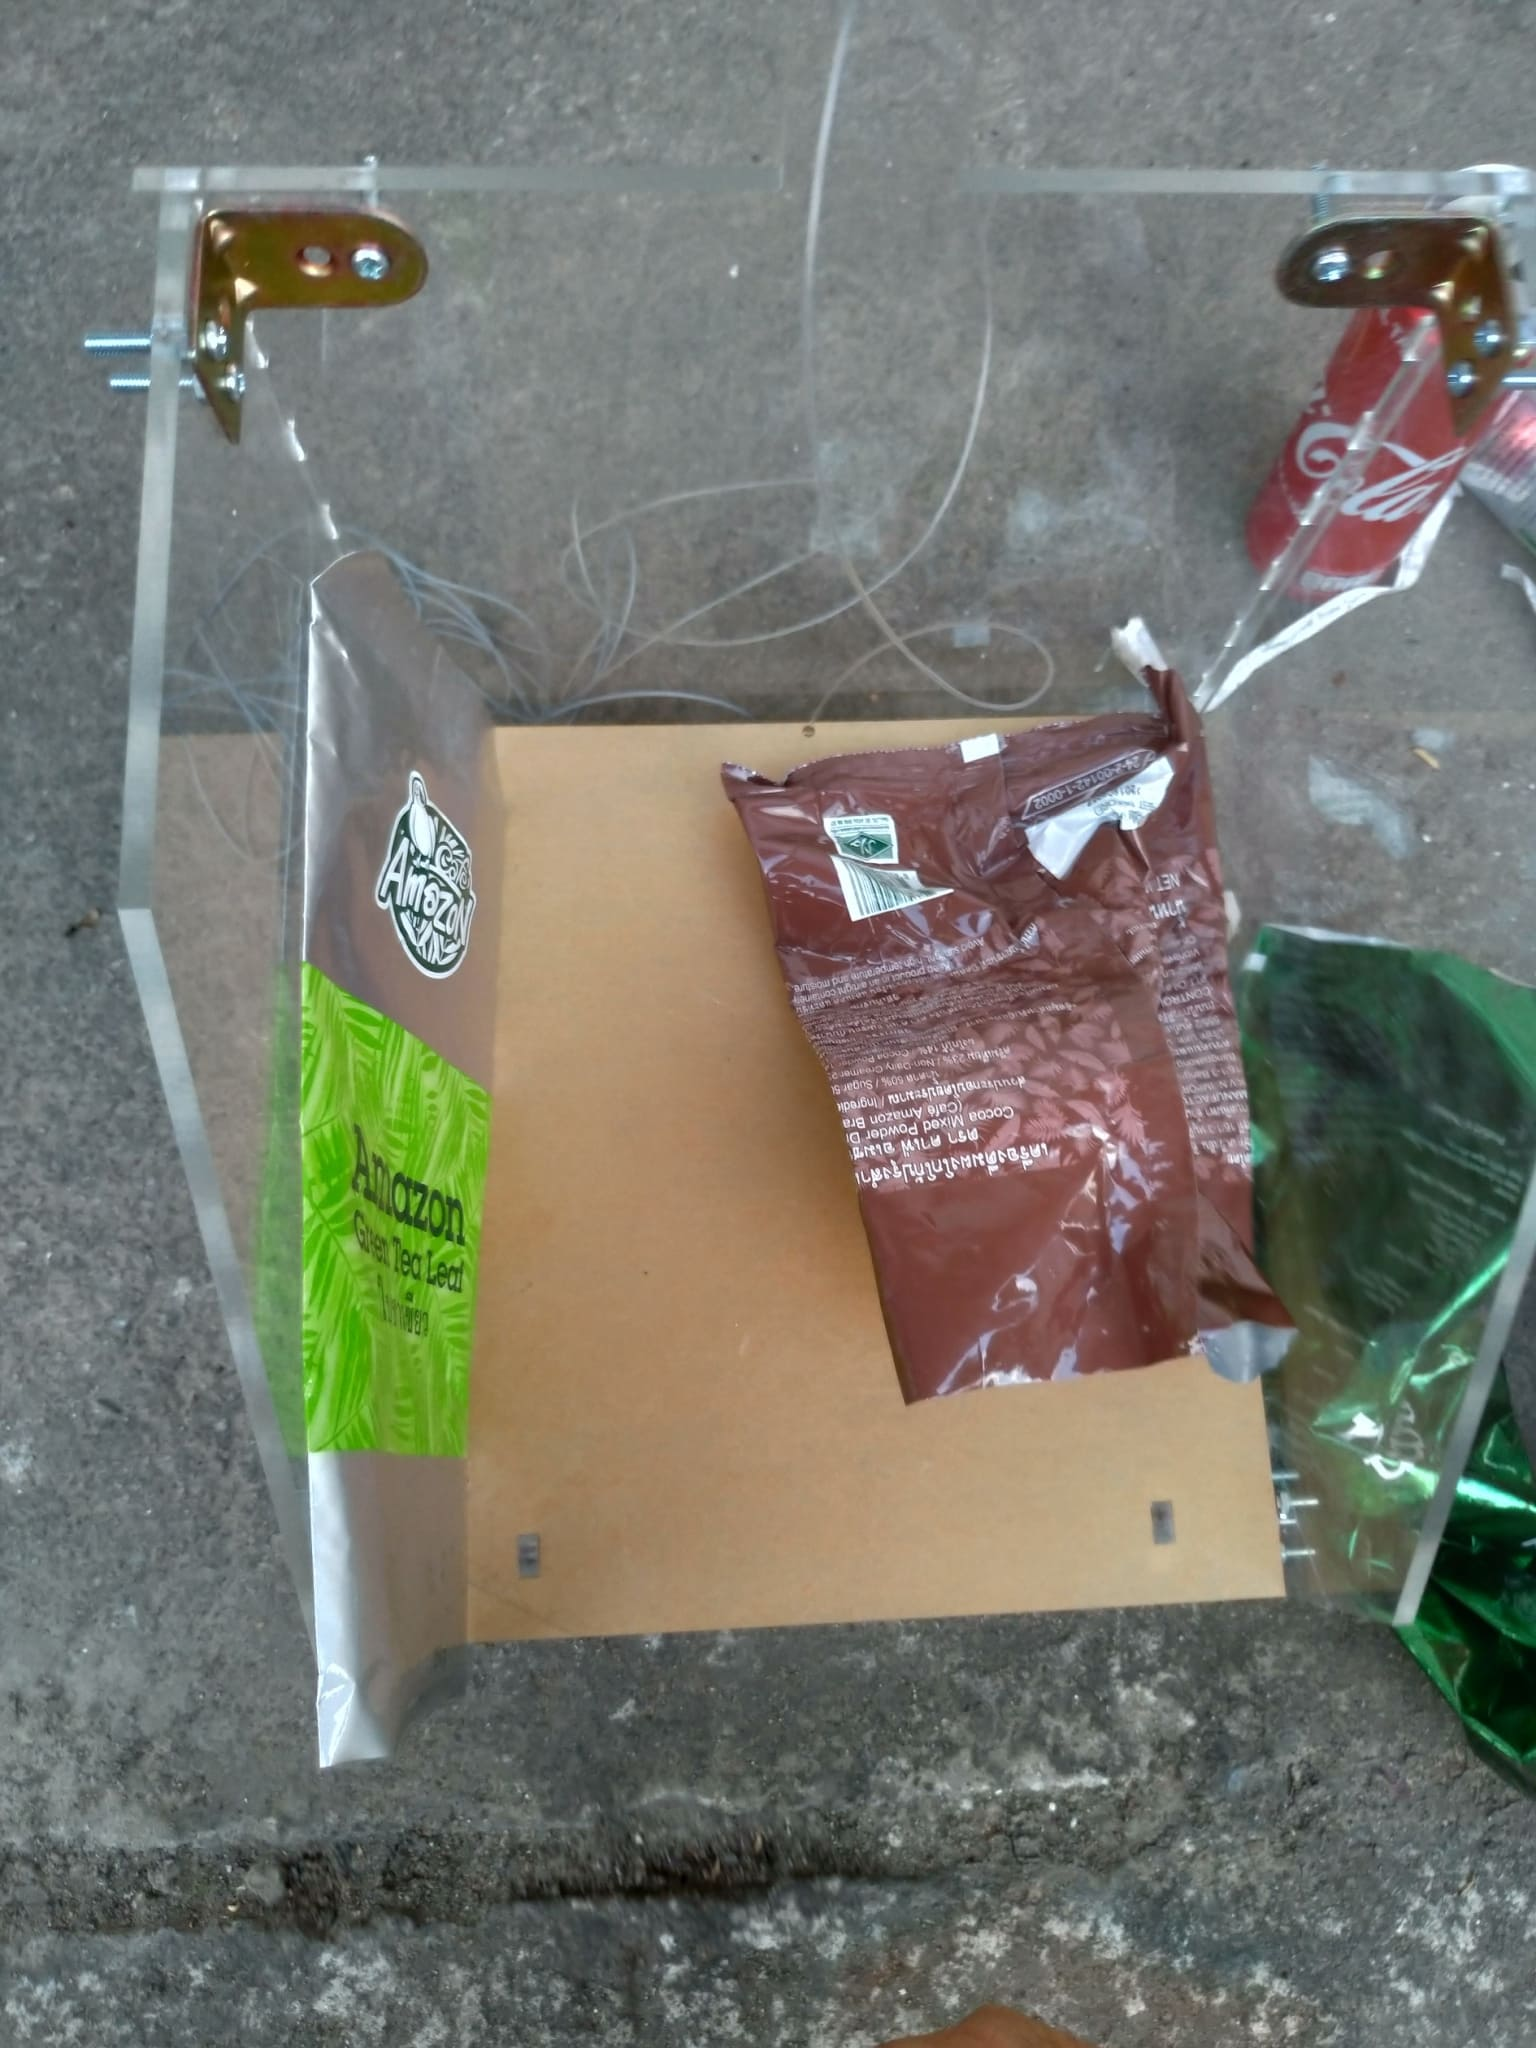AlCan: (1250, 181, 1534, 589)
Others: (716, 661, 1294, 1401), (1247, 908, 1536, 1785), (300, 545, 490, 1764)
